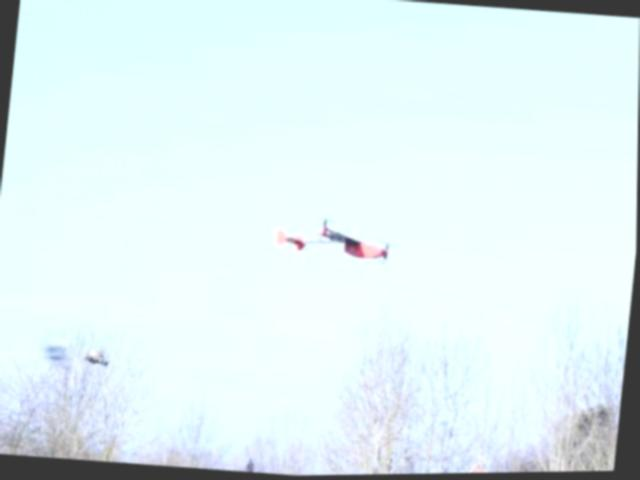uav: (266, 203, 397, 284)
